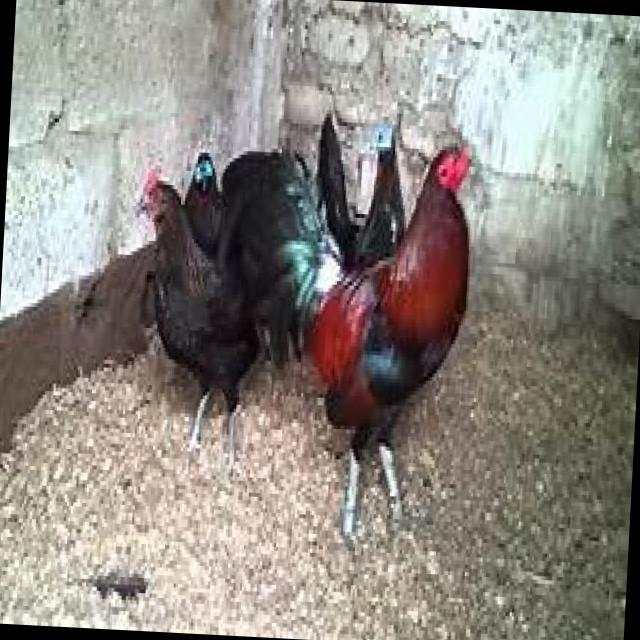animal: (308, 136, 478, 538), (125, 175, 268, 440), (314, 118, 406, 268)
